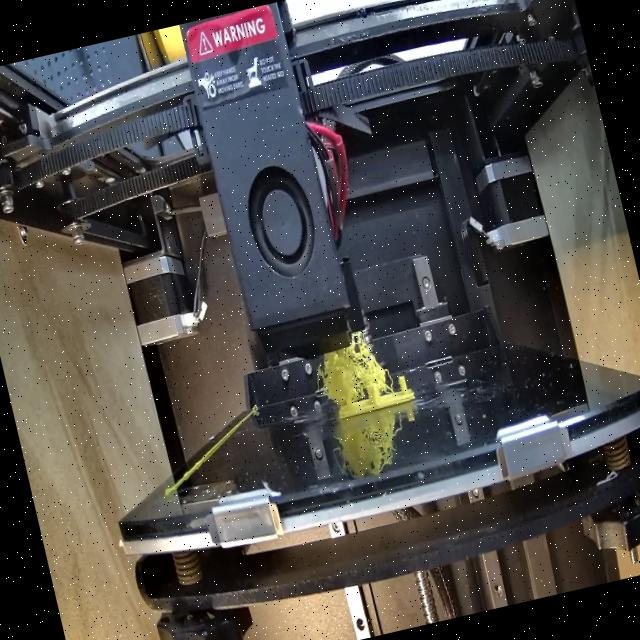spaghetti: (305, 324, 392, 410)
